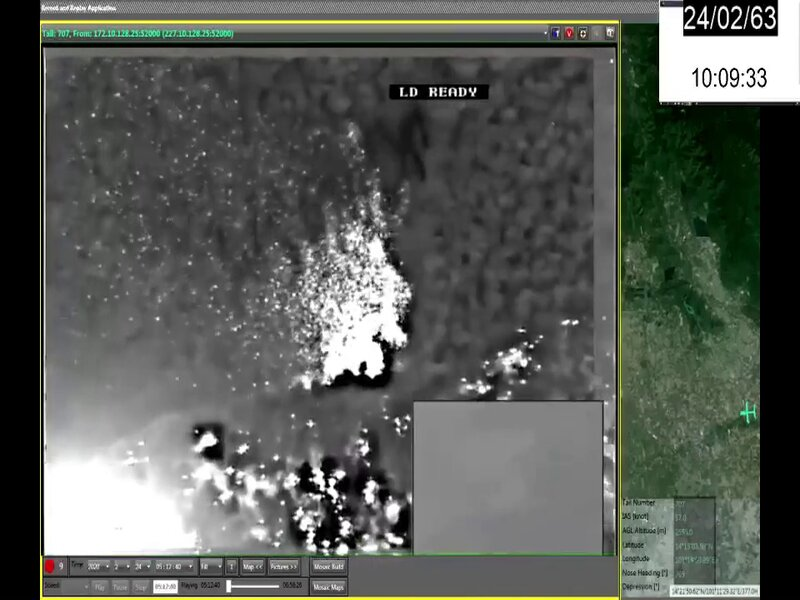Fire: (288, 200, 414, 395)
